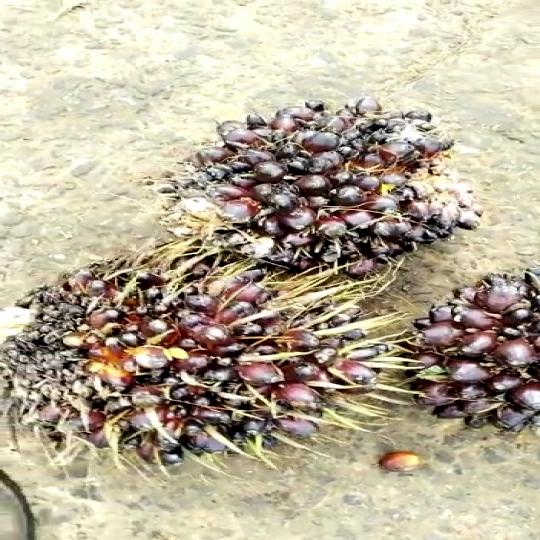kurang masak: (13, 242, 385, 469), (161, 90, 492, 284), (377, 260, 540, 448)
